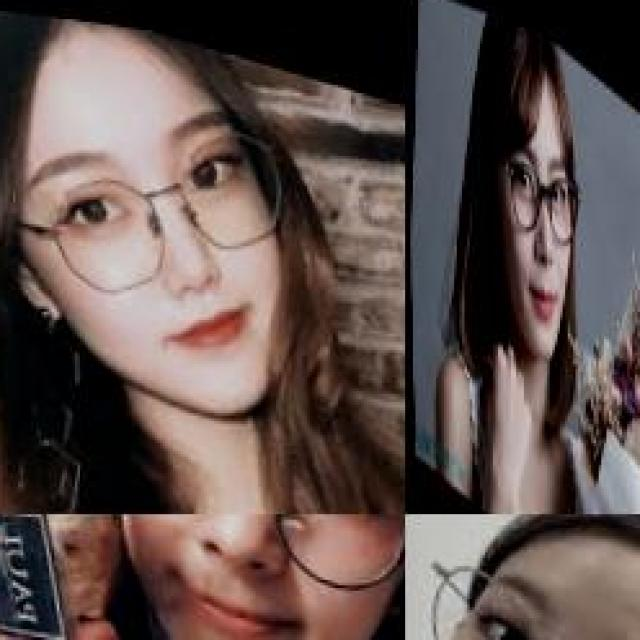Glasses: (0, 54, 297, 333), (90, 514, 403, 605), (405, 544, 640, 640), (498, 109, 583, 267)
